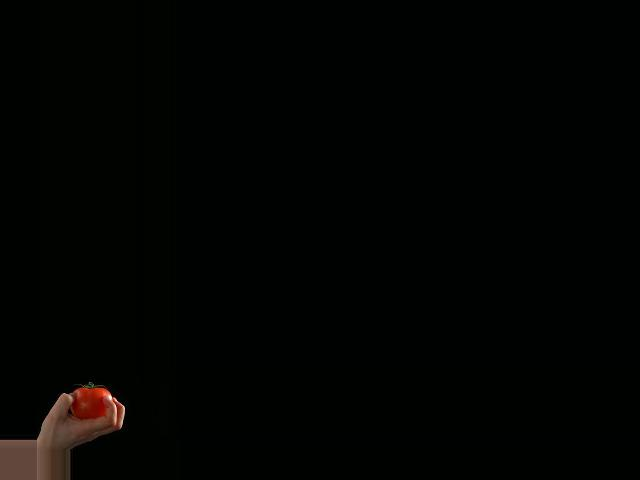tomato: (70, 383, 111, 418)
